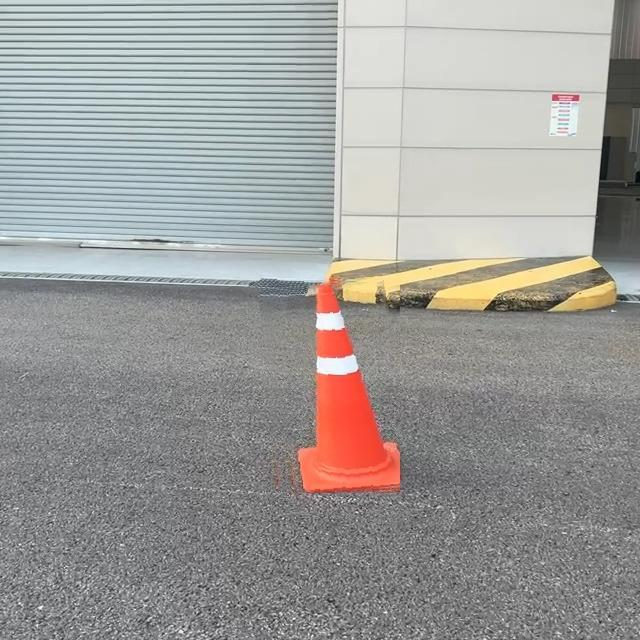fallen_object: (252, 267, 426, 516)
